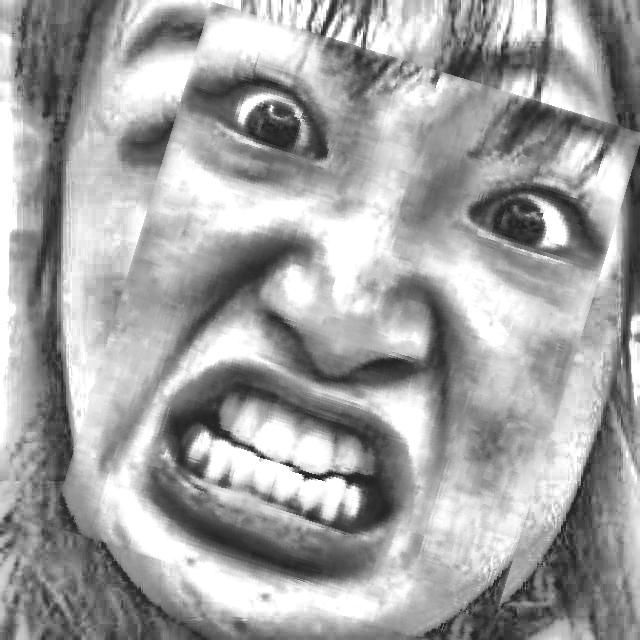angry: (86, 28, 608, 631)
